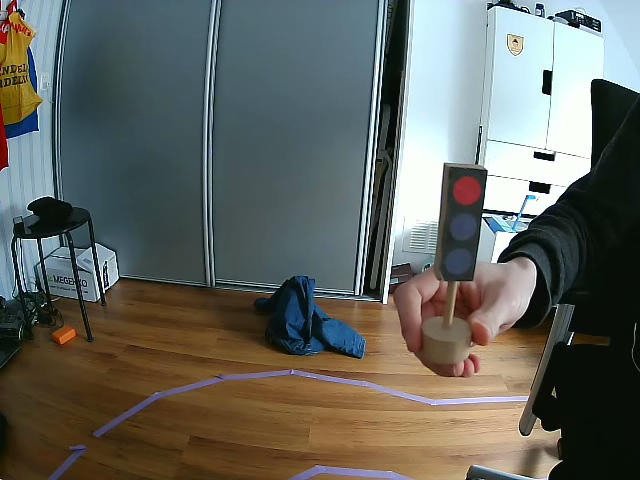roodlicht: (437, 166, 487, 281)
